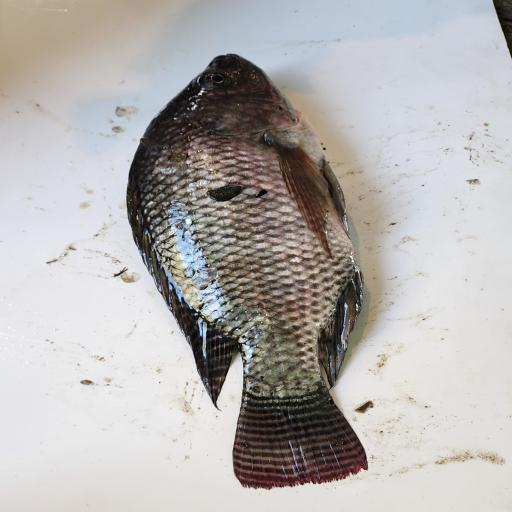Tilapia: (125, 54, 369, 491)
